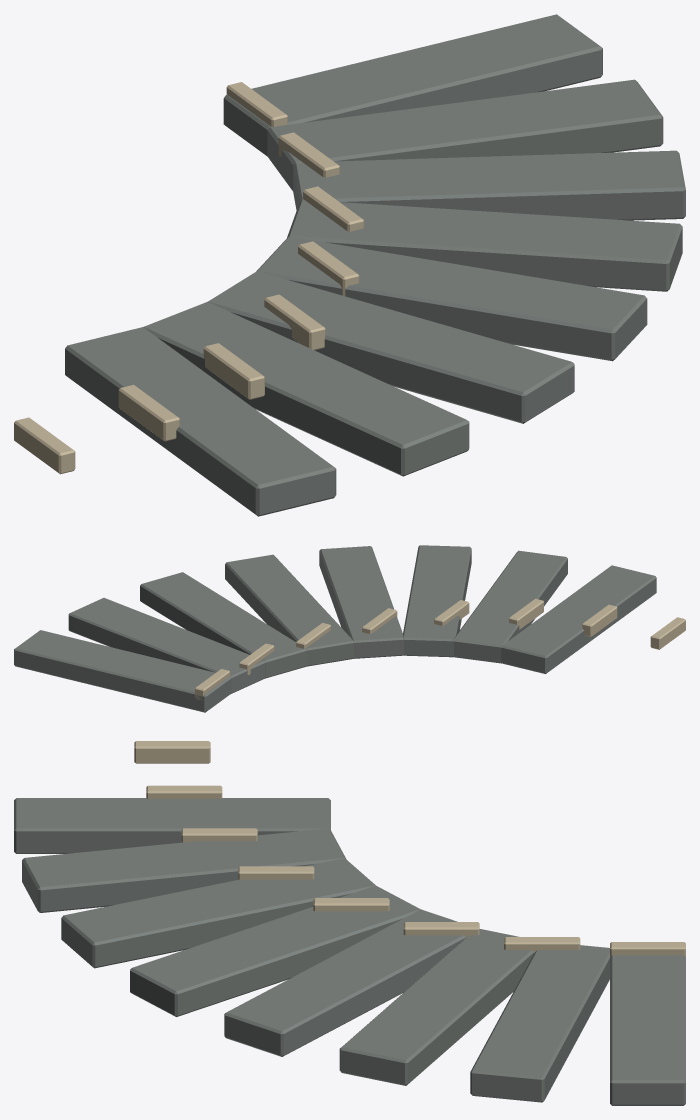
Rendered from landscape-sidewalk-corner.lod0.glb.
The picture shows the model from 3 angles, top to bottom: view 1: azimuth 30°, elevation 25°; view 2: azimuth 150°, elevation 25°; view 3: azimuth 270°, elevation 25°; orthographic projection. The views are drawn at different scales.
Visible parts, largest first — view 1: landscape-sidewalk-corner__body; view 2: landscape-sidewalk-corner__body; view 3: landscape-sidewalk-corner__body.
Boxes of the visible parts, x1,y1,x2,y2 form: landscape-sidewalk-corner__body: (14, 14, 685, 516); landscape-sidewalk-corner__body: (14, 545, 685, 712); landscape-sidewalk-corner__body: (14, 741, 685, 1105).
Bounding box in the file's own units: 4.98 × 0.23 × 4.24.
